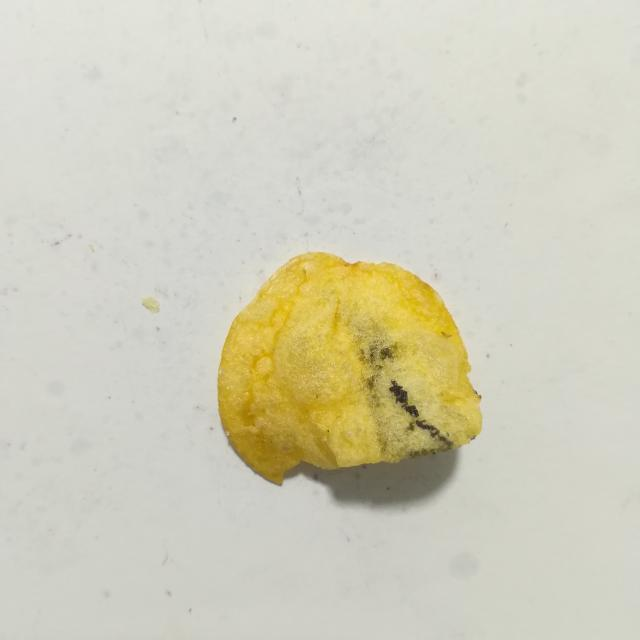chip: (218, 253, 482, 484)
damaged: (409, 420, 452, 457), (389, 380, 419, 418)
semi-damaged: (352, 319, 440, 463)
